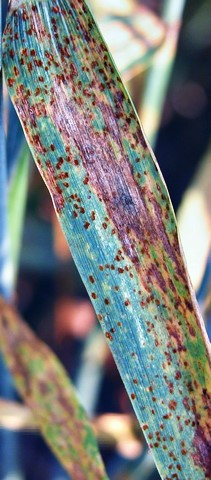Leaf Rust: (17, 39, 211, 430)
